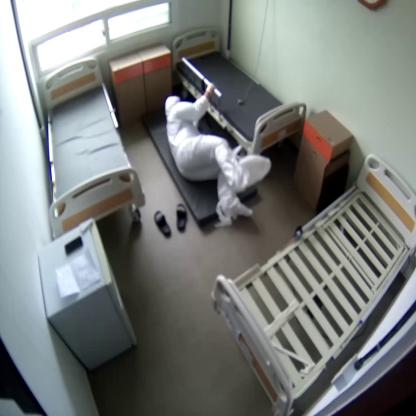Person: (166, 81, 268, 216)
